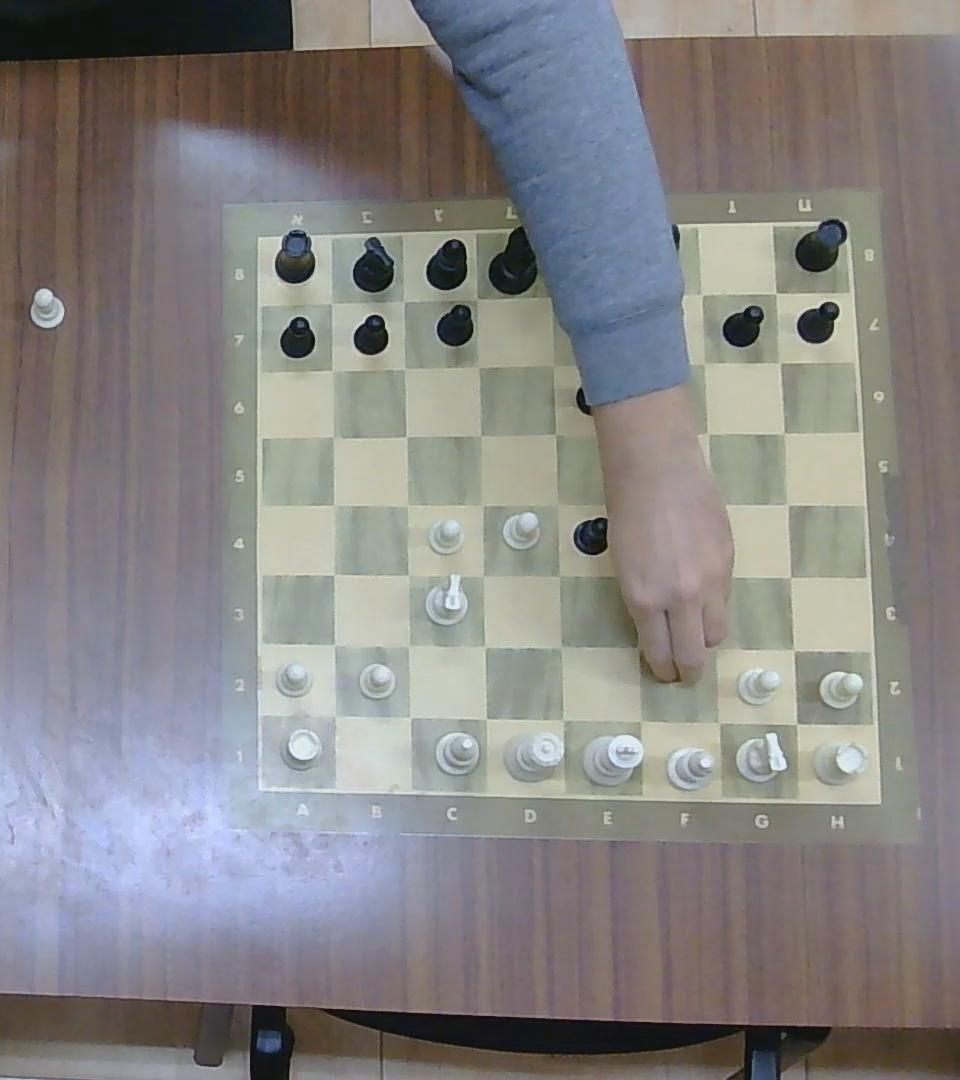xcorner: (779, 705, 813, 739), (777, 632, 809, 666), (624, 702, 656, 735), (468, 630, 500, 662), (699, 630, 731, 662), (703, 705, 734, 738), (319, 699, 350, 731), (544, 630, 575, 662), (470, 701, 500, 733), (547, 702, 577, 734), (393, 630, 423, 662), (700, 559, 730, 591), (621, 490, 651, 522), (393, 701, 423, 732), (318, 629, 349, 659), (621, 631, 652, 661), (537, 281, 567, 312), (608, 277, 637, 309), (461, 283, 491, 313), (776, 561, 805, 592), (467, 560, 496, 590), (393, 560, 422, 590), (319, 558, 348, 588), (388, 285, 417, 315), (617, 420, 646, 450), (316, 287, 345, 316), (773, 488, 802, 517), (319, 488, 348, 517), (465, 419, 494, 448), (693, 417, 722, 446), (770, 417, 798, 446), (464, 351, 492, 380), (543, 419, 571, 448), (543, 490, 572, 518), (617, 559, 645, 588), (317, 355, 345, 383), (393, 490, 421, 518), (545, 561, 573, 589), (467, 490, 495, 518), (700, 490, 728, 518), (687, 280, 716, 307), (318, 421, 345, 449), (392, 421, 419, 449), (688, 349, 716, 376), (613, 348, 639, 377), (389, 354, 416, 381), (540, 350, 567, 377), (762, 280, 789, 306), (766, 349, 792, 375)
